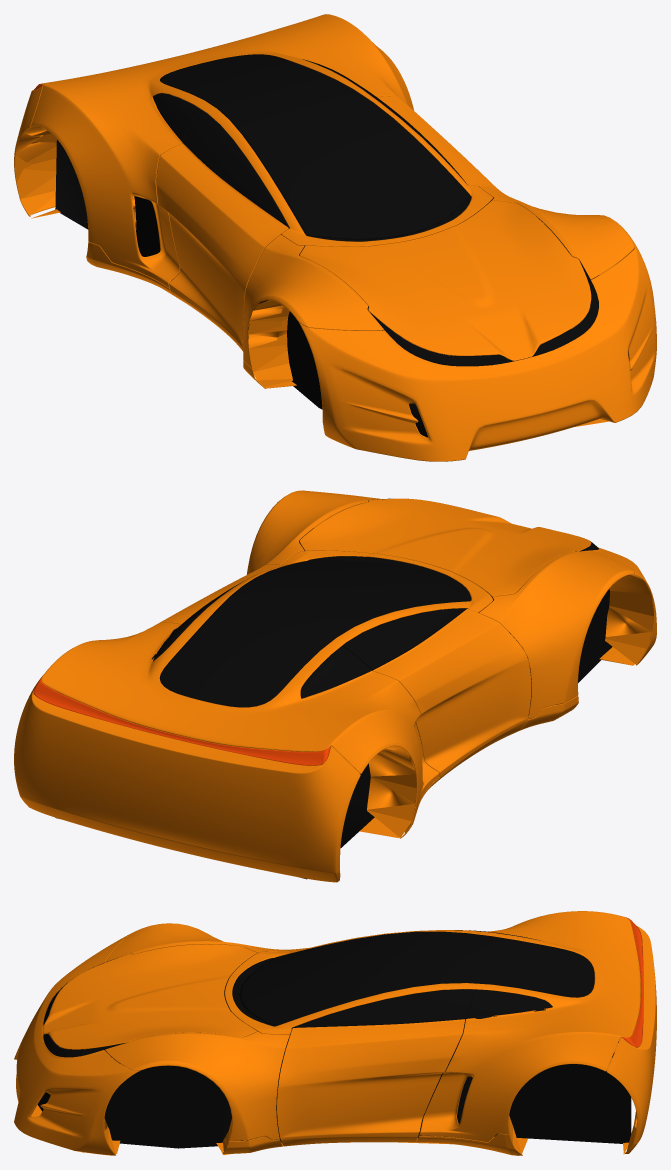
Rendered from Car Body.fbx.
3 views of the same model, one above another, from view 1: azimuth 30°, elevation 25°; view 2: azimuth 150°, elevation 25°; view 3: azimuth 270°, elevation 25° (orthographic). The views are drawn at different scales.
Parts seen in each view (by area): view 1: Cube.066; view 2: Cube.066; view 3: Cube.066.
Boxes of the visible parts, x1,y1,x2,y2 form: Cube.066: [14, 14, 656, 461]; Cube.066: [14, 490, 656, 882]; Cube.066: [14, 911, 656, 1155].
Bounding box in the file's own units: 207 × 95.91 × 398.
